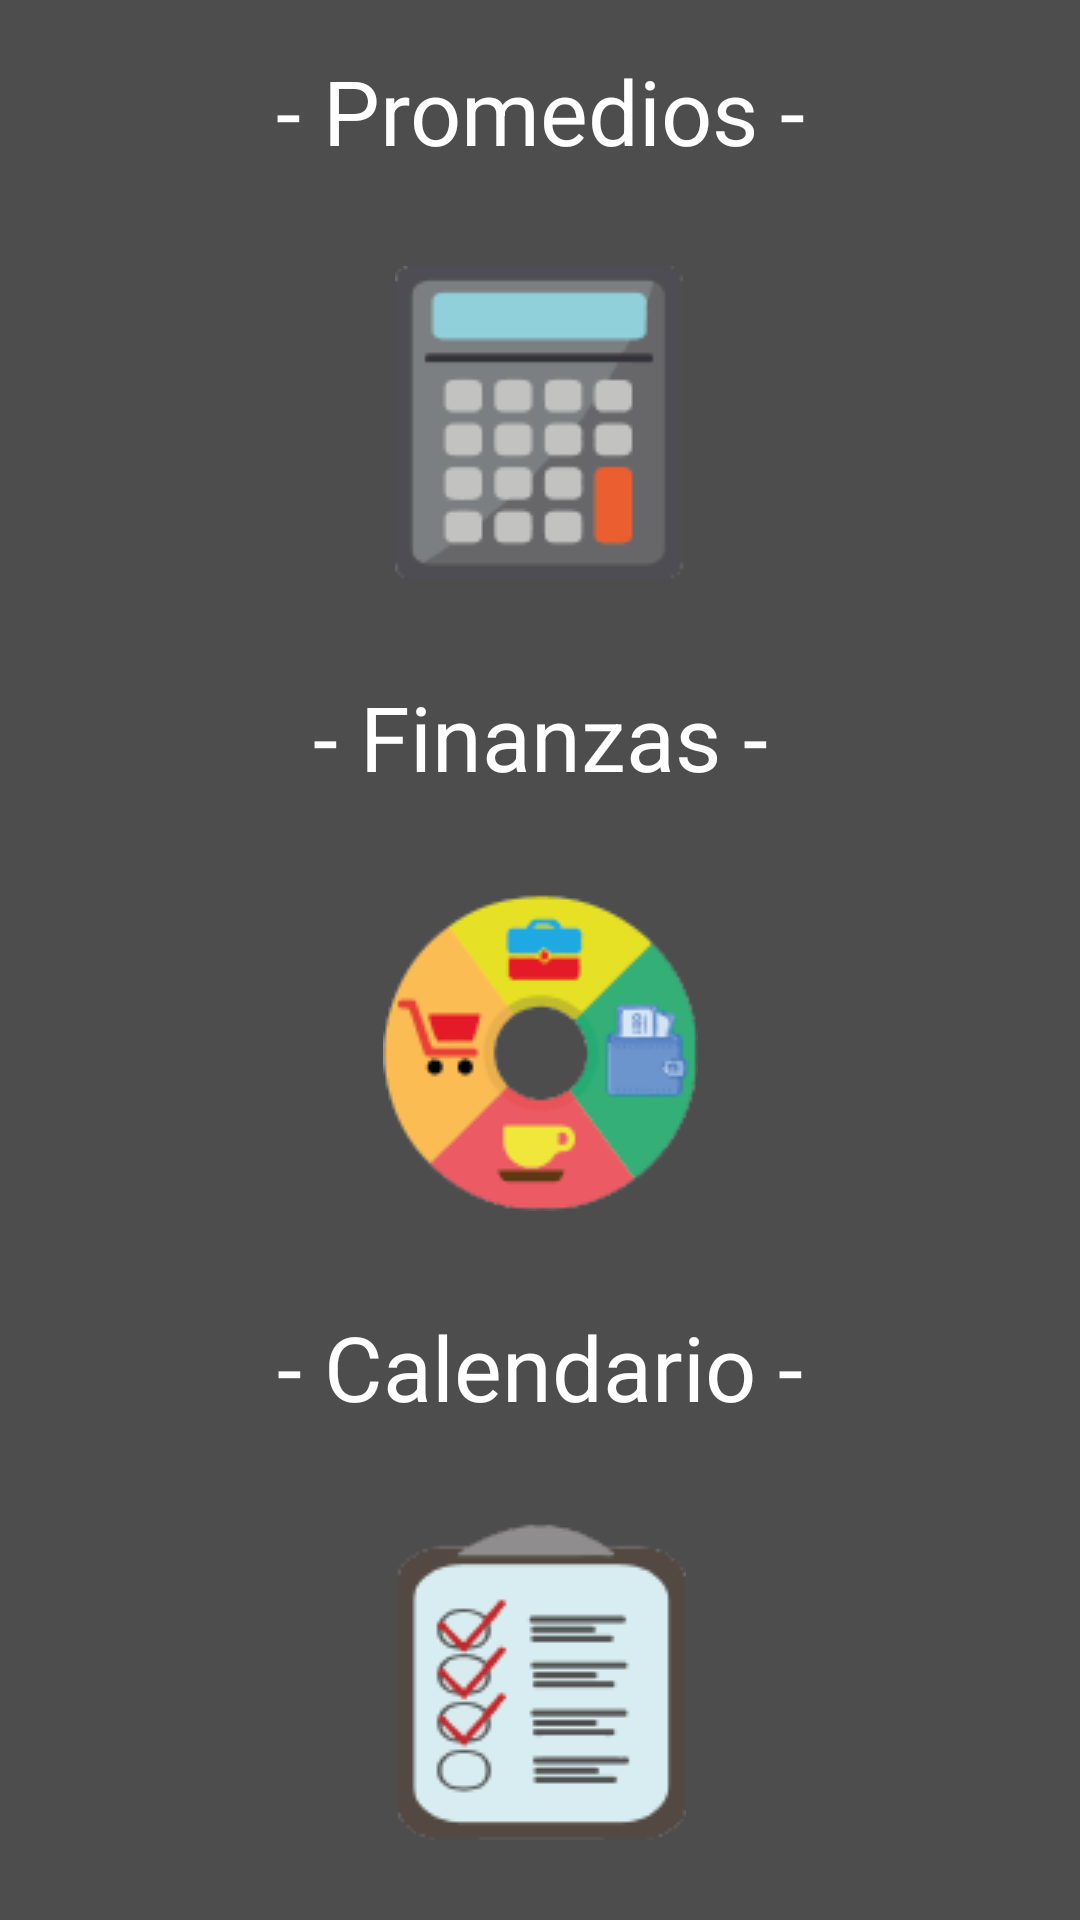

Screen size 1080*1920. Icon name, then its center in pixels as [x,y]:
ccalculadora: [529,417]
ffinances: [539,1053]
